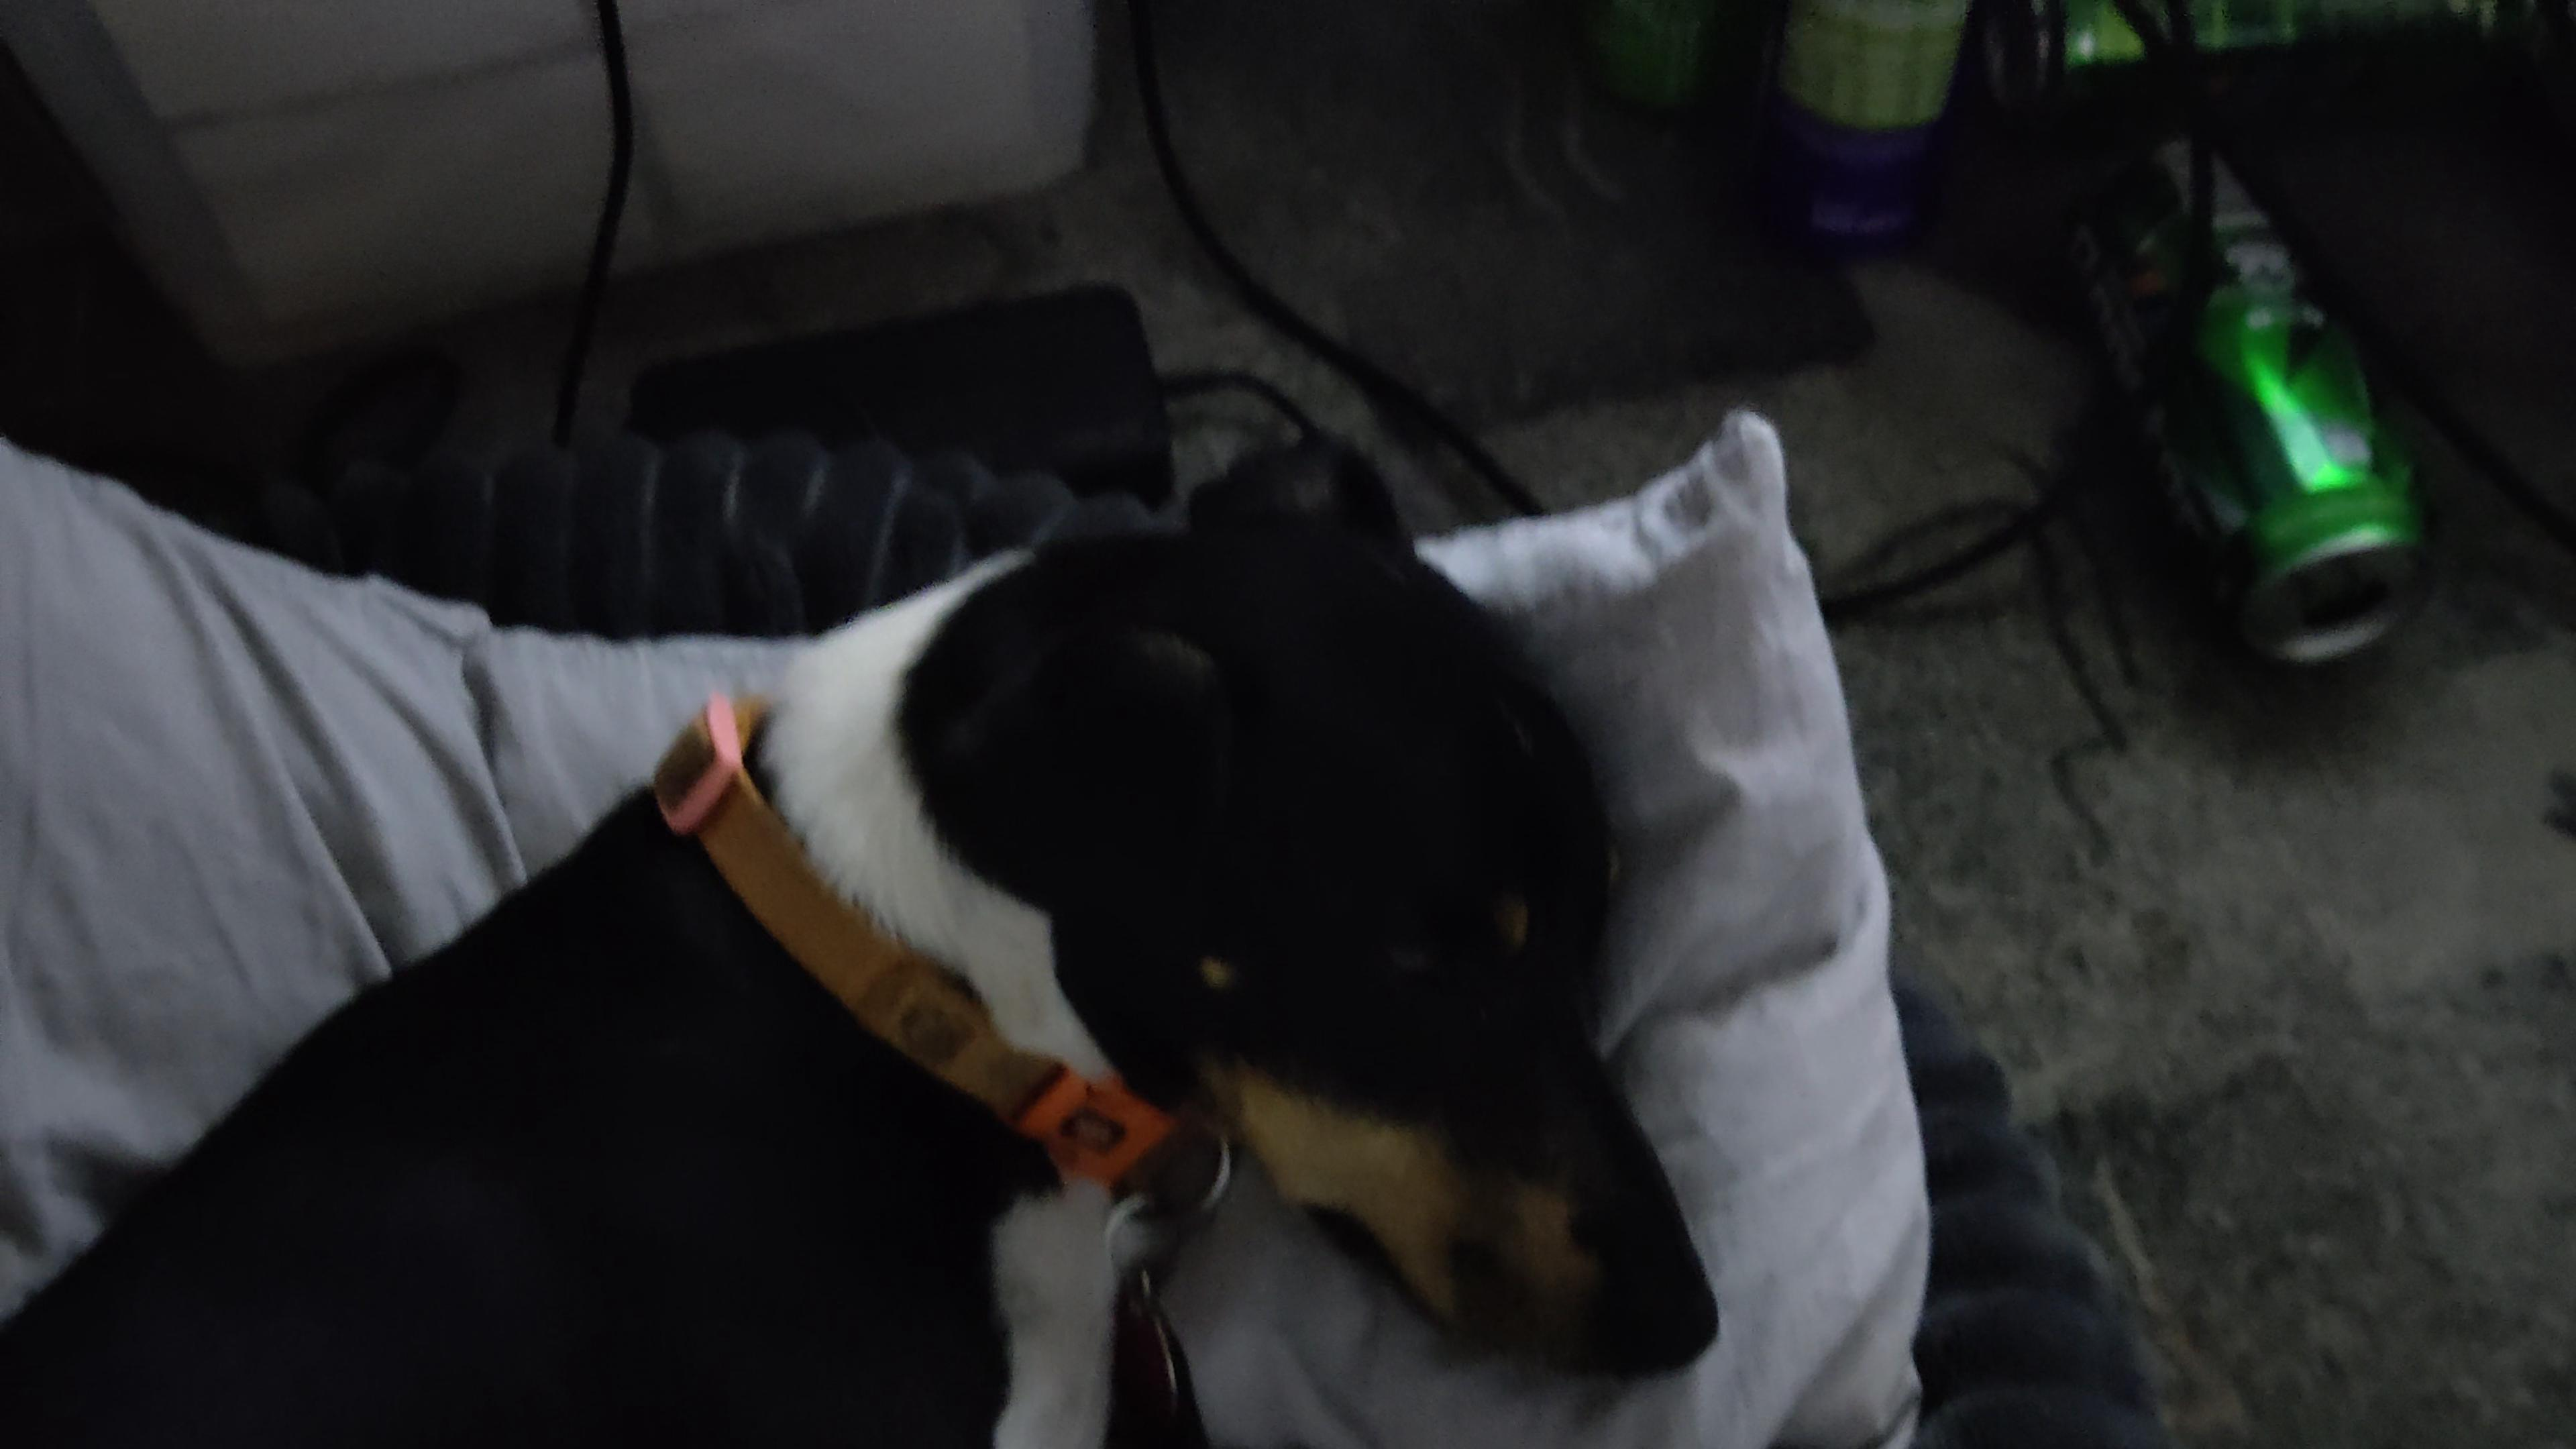Dog: (0, 428, 1737, 1449)
